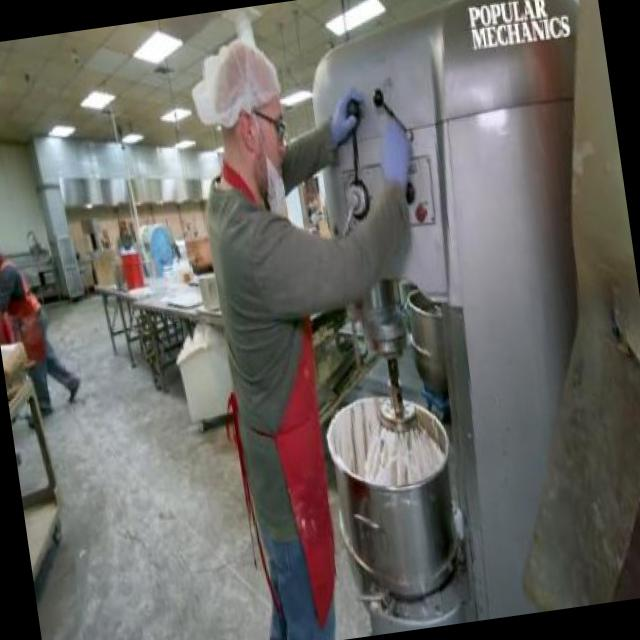hairnet: (188, 41, 279, 112), (0, 232, 4, 259)
